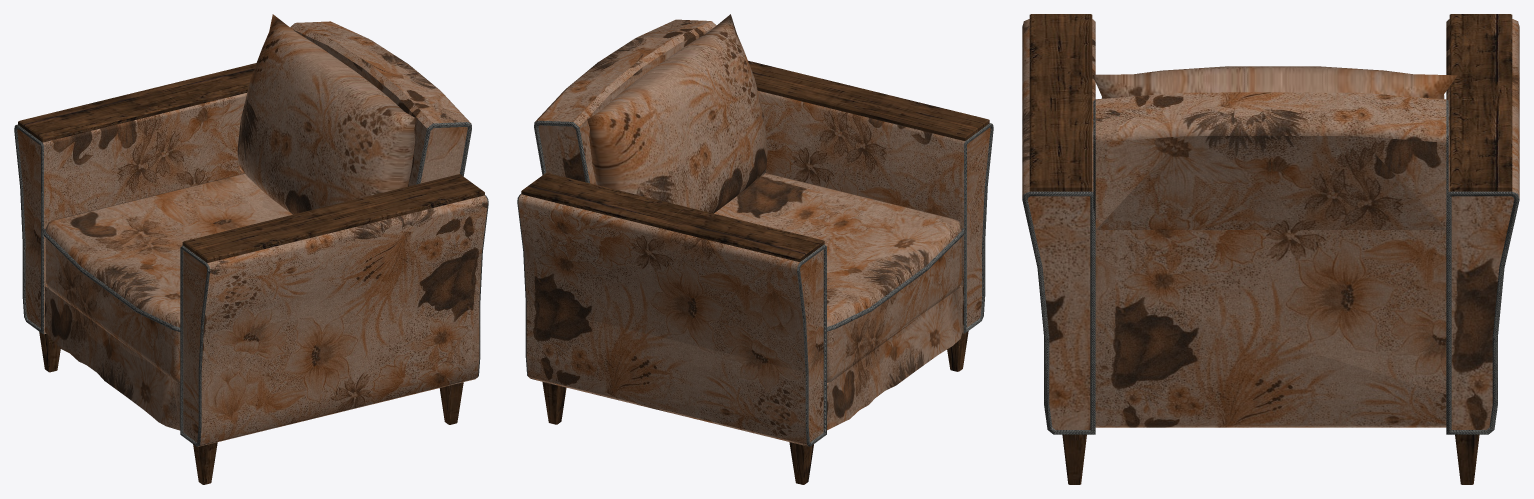
3 views of the same model, side by side, from view 1: azimuth 30°, elevation 25°; view 2: azimuth 150°, elevation 25°; view 3: azimuth 270°, elevation 25° (orthographic). The views are drawn at different scales.
Parts seen in each view (by area): view 1: Geode (×2); view 2: Geode (×2); view 3: Geode (×2).
Part boxes in pixels (box(x1,y1,x2,y2)): Geode (×2): box(14, 14, 488, 484); Geode (×2): box(517, 14, 993, 484); Geode (×2): box(1022, 14, 1519, 484).
Bounding box in the file's own units: 0.8993 × 0.8688 × 1.
Materials: 8 (5 with a texture image).
